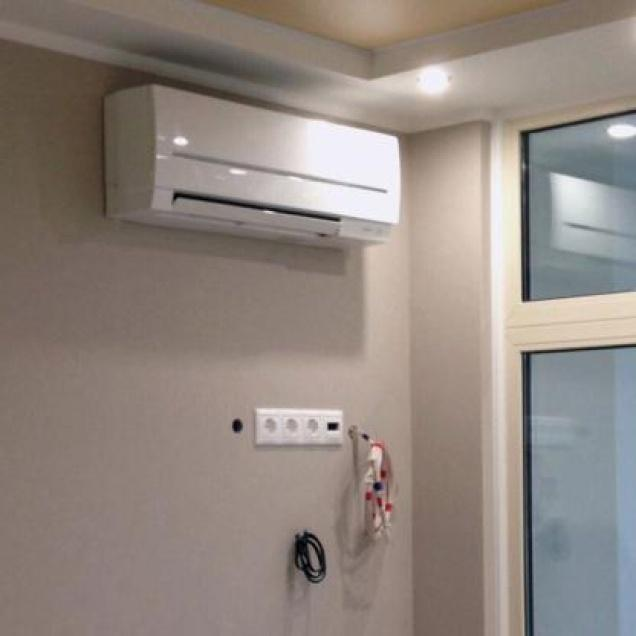AC: (102, 81, 402, 251)
